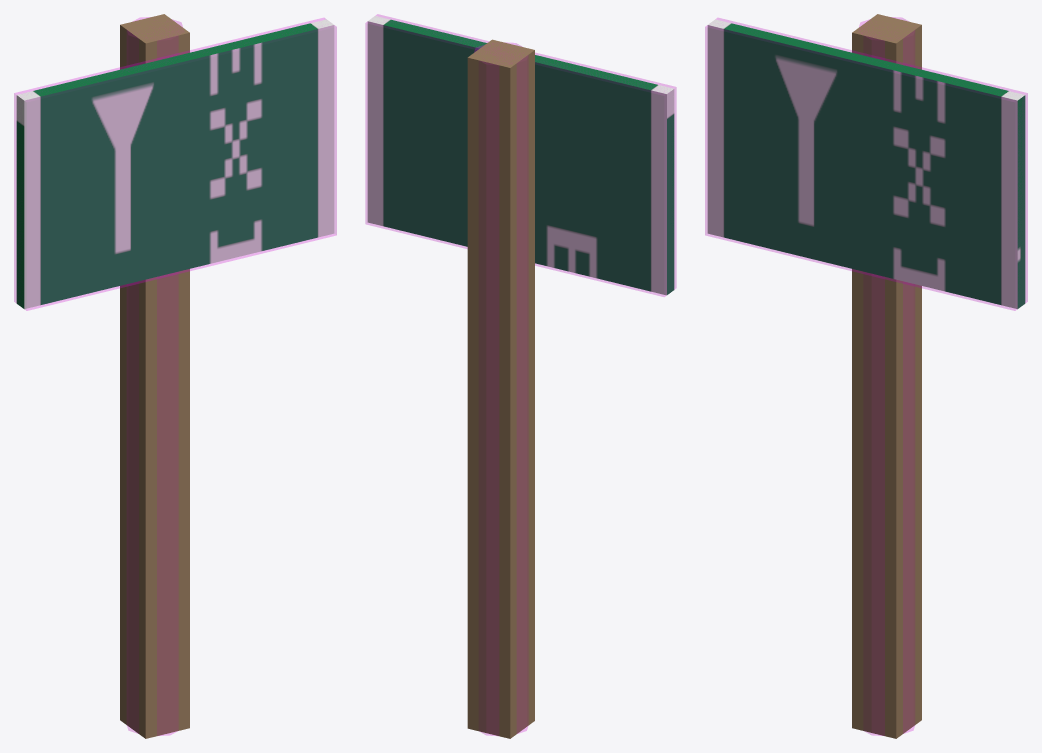
The model's file is exit_left.dae.
The picture shows the model from 3 angles, left to right: view 1: azimuth 30°, elevation 25°; view 2: azimuth 150°, elevation 25°; view 3: azimuth 330°, elevation 25°; orthographic projection. The views are drawn at different scales.
Visible parts, largest first — view 1: sign, Colmesh_sign-1, post, Colmesh_post-1; view 2: sign, post, Colmesh_sign-1, Colmesh_post-1; view 3: sign, Colmesh_sign-1, post, Colmesh_post-1.
Part boxes in pixels (left/top/right/bottom): sign: left=16, top=19, right=334, bottom=309; Colmesh_sign-1: left=14, top=18, right=336, bottom=310; post: left=120, top=14, right=189, bottom=738; Colmesh_post-1: left=127, top=17, right=182, bottom=735; sign: left=367, top=16, right=674, bottom=295; post: left=467, top=39, right=534, bottom=738; Colmesh_sign-1: left=365, top=14, right=676, bottom=296; Colmesh_post-1: left=474, top=42, right=527, bottom=735; sign: left=707, top=19, right=1025, bottom=309; Colmesh_sign-1: left=705, top=18, right=1027, bottom=310; post: left=852, top=14, right=921, bottom=738; Colmesh_post-1: left=859, top=17, right=914, bottom=735.
Size of the model in its own units: 0.7 by 0.165 by 1.5.
3 materials, 1 textured.
